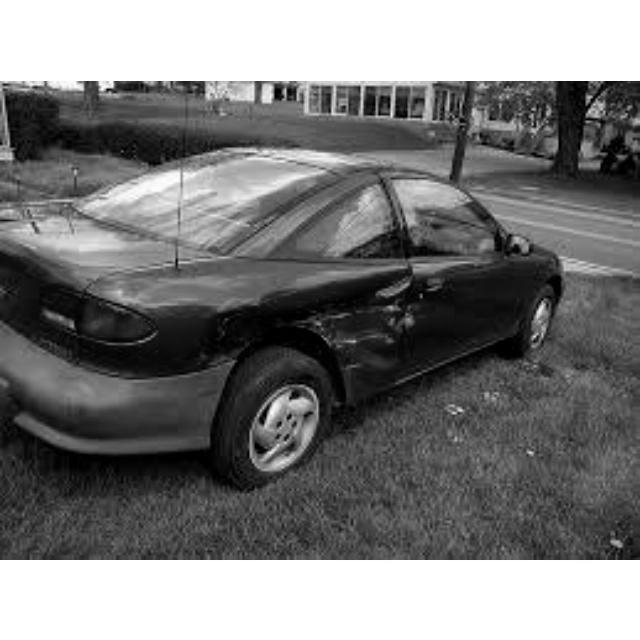quaterpanel-dent: (230, 273, 400, 361)
